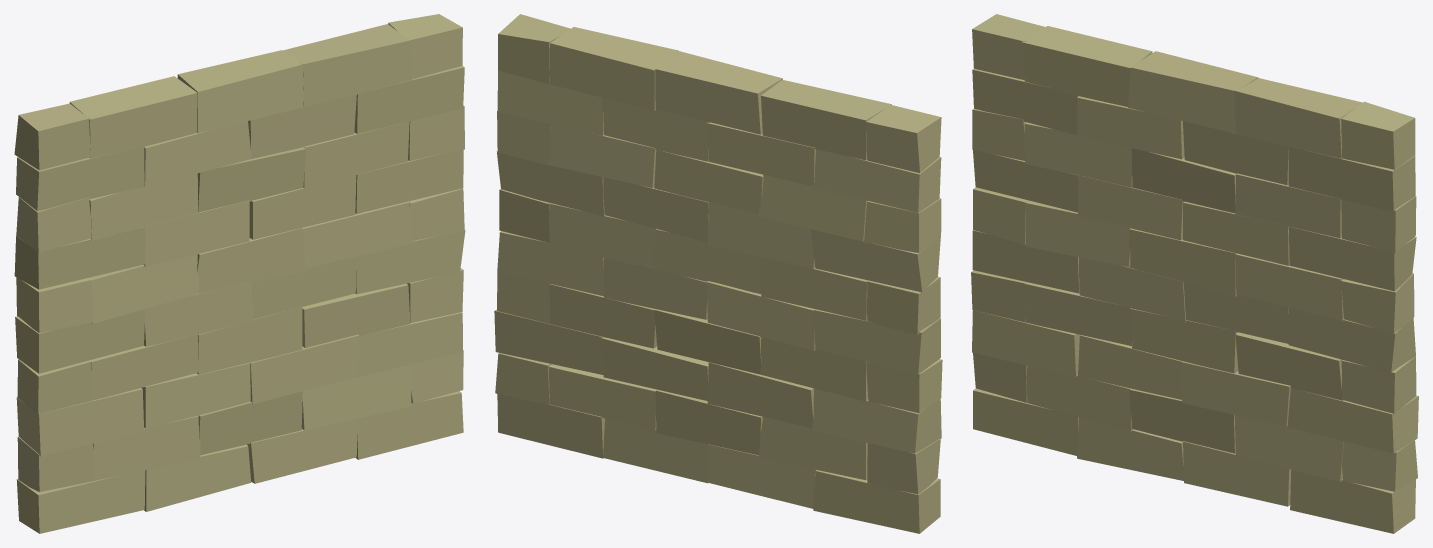
Rendered from WallTypeC.fbx.
The picture shows the model from 3 angles, left to right: view 1: azimuth 30°, elevation 25°; view 2: azimuth 150°, elevation 25°; view 3: azimuth 330°, elevation 25°; orthographic projection.
Visible parts, largest first — view 1: WallTypeC; view 2: WallTypeC; view 3: WallTypeC.
Boxes of the visible parts, x1=… form: WallTypeC: x1=14, y1=14, x2=465, y2=533; WallTypeC: x1=494, y1=14, x2=942, y2=533; WallTypeC: x1=971, y1=14, x2=1418, y2=533.
Size of the model in its own units: 1012 by 922 by 105.
